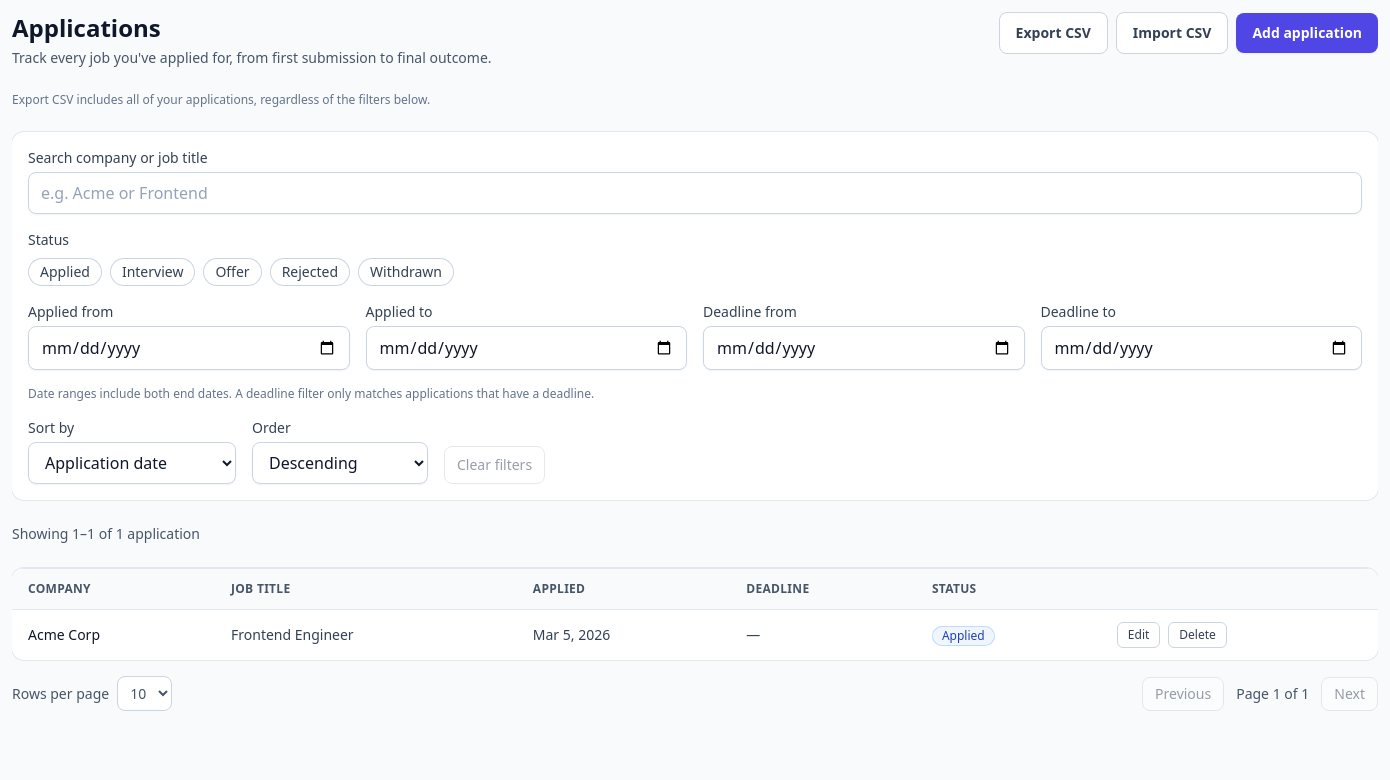
Test: search, filters, sorting and pagination › does not send an invalid date range and explains the problem
Expected: the table is shown, [12,568,1378,660]
In the date field labelled "Applied from": (189, 348) [28,326,350,370], type "2026-05-01"
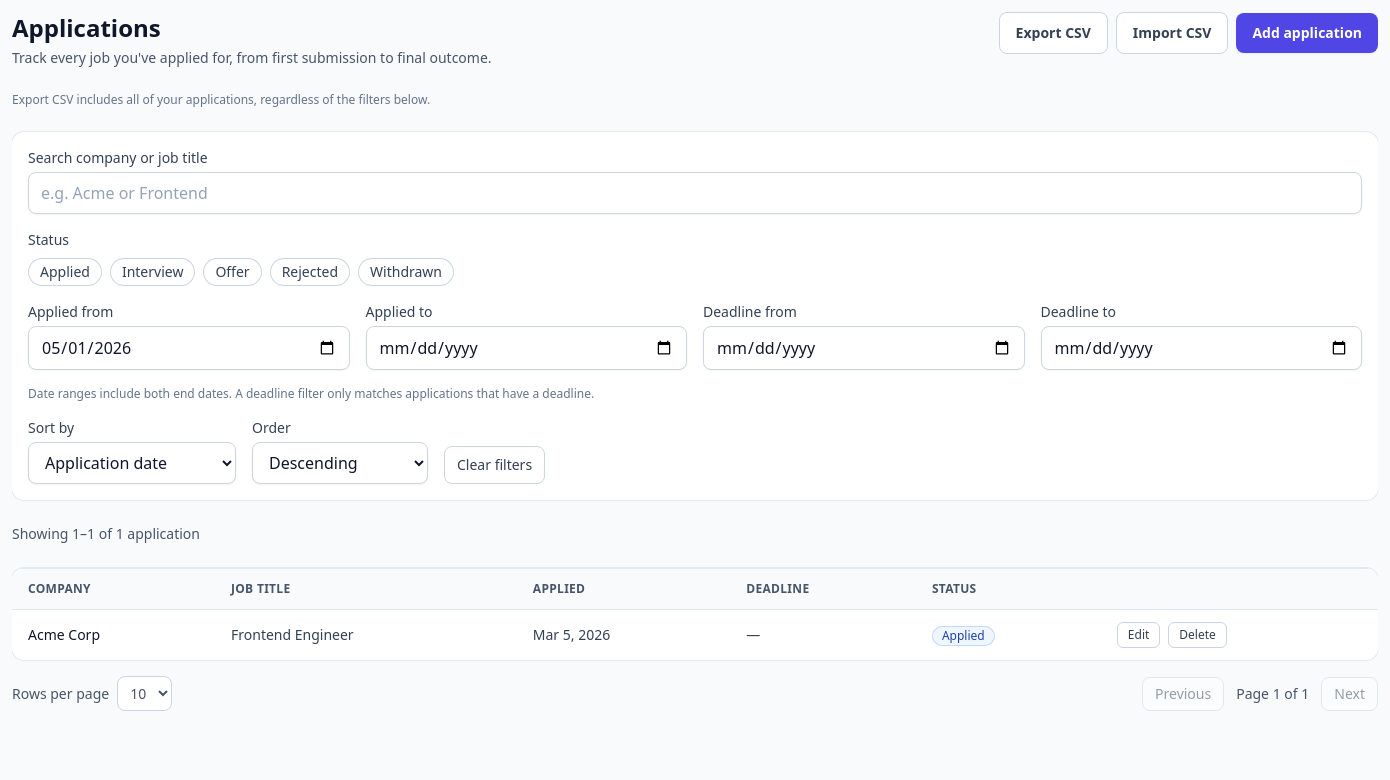
In the date field labelled "Applied to": (526, 348) [366,326,687,370], type "2026-01-01"
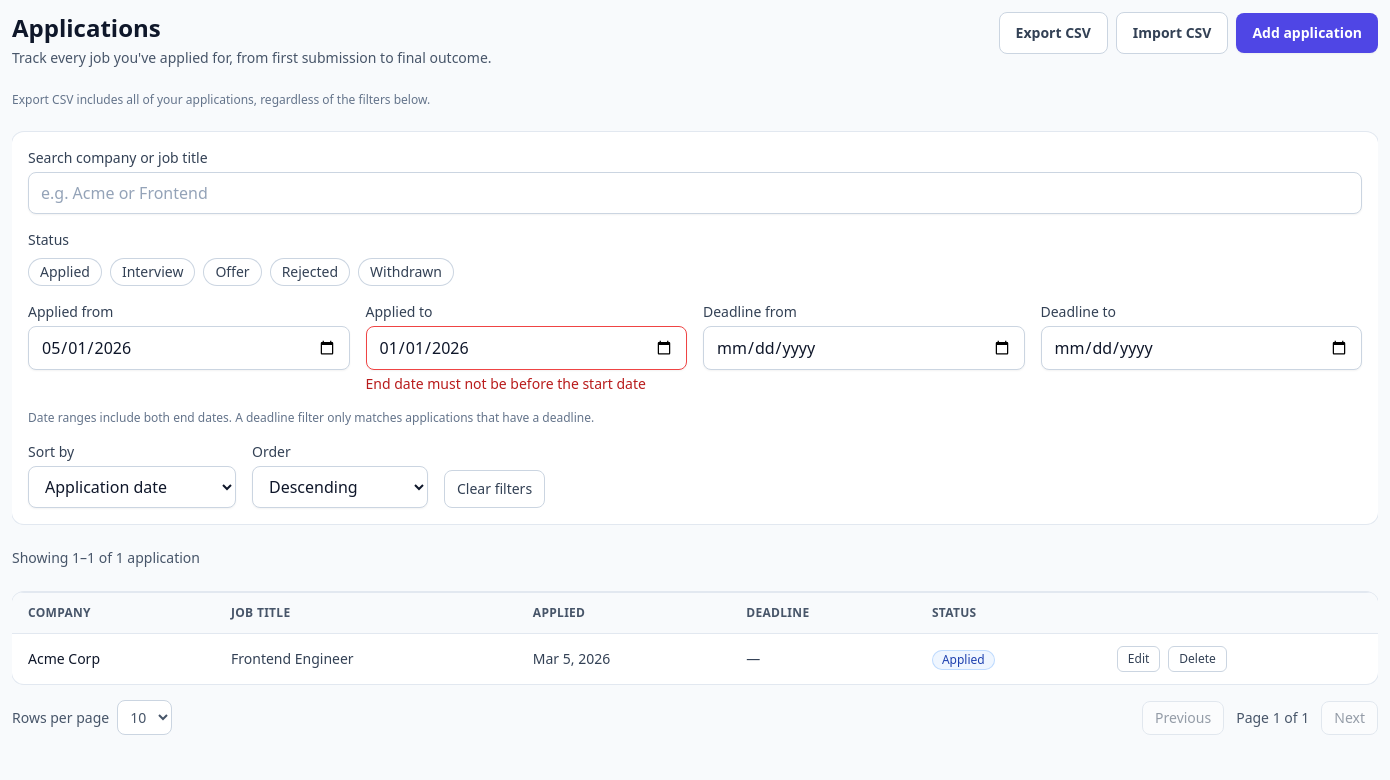
Expected: the text "End date must not be before the start date" is shown, [366,374,687,394]
